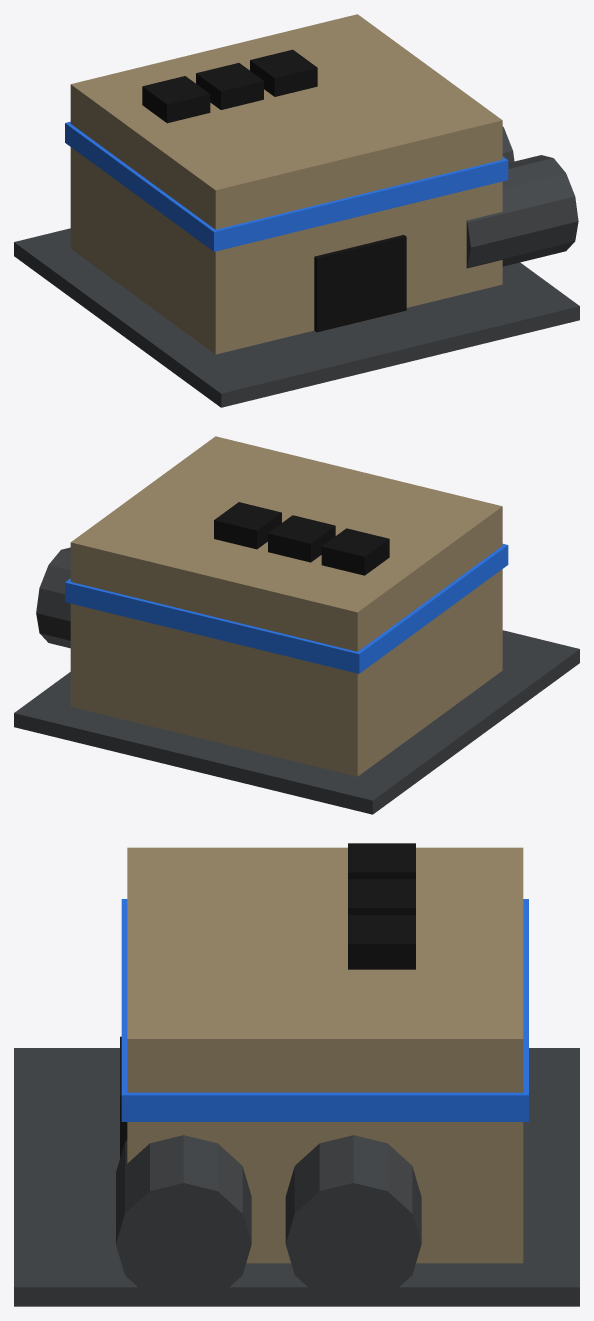
Rendered from ae_power_plant.glb.
3 renders of one model, top to bottom at view 1: azimuth 30°, elevation 25°; view 2: azimuth 150°, elevation 25°; view 3: azimuth 270°, elevation 25°, orthographic. The views are drawn at different scales.
Parts seen in each view (by area): view 1: main, base, team_band, fuel_tank_0, door, vent_0, vent_2, vent_1; view 2: main, base, team_band, fuel_tank_1, vent_0, vent_1, vent_2; view 3: main, base, fuel_tank_0, fuel_tank_1, team_band, vent_2, vent_0, vent_1.
Part boxes in pixels (bbox=[...]): main: bbox=[70, 14, 502, 354]; base: bbox=[14, 228, 579, 407]; team_band: bbox=[65, 121, 508, 251]; fuel_tank_0: bbox=[466, 155, 578, 268]; door: bbox=[314, 235, 406, 332]; vent_0: bbox=[142, 76, 210, 123]; vent_2: bbox=[250, 49, 317, 96]; vent_1: bbox=[196, 63, 263, 109]; main: bbox=[70, 436, 502, 776]; base: bbox=[14, 630, 579, 814]; team_band: bbox=[65, 544, 508, 673]; fuel_tank_1: bbox=[36, 547, 70, 648]; vent_0: bbox=[321, 528, 389, 575]; vent_1: bbox=[268, 515, 335, 562]; vent_2: bbox=[214, 502, 281, 549]; main: bbox=[127, 847, 523, 1263]; base: bbox=[14, 1048, 579, 1306]; fuel_tank_0: bbox=[116, 1135, 251, 1305]; fuel_tank_1: bbox=[285, 1135, 421, 1305]; team_band: bbox=[121, 899, 528, 1121]; vent_2: bbox=[348, 915, 415, 969]; vent_0: bbox=[348, 843, 415, 879]; vent_1: bbox=[348, 879, 415, 915].
Bounding box in the file's own units: 8.8 × 4.2 × 8.
